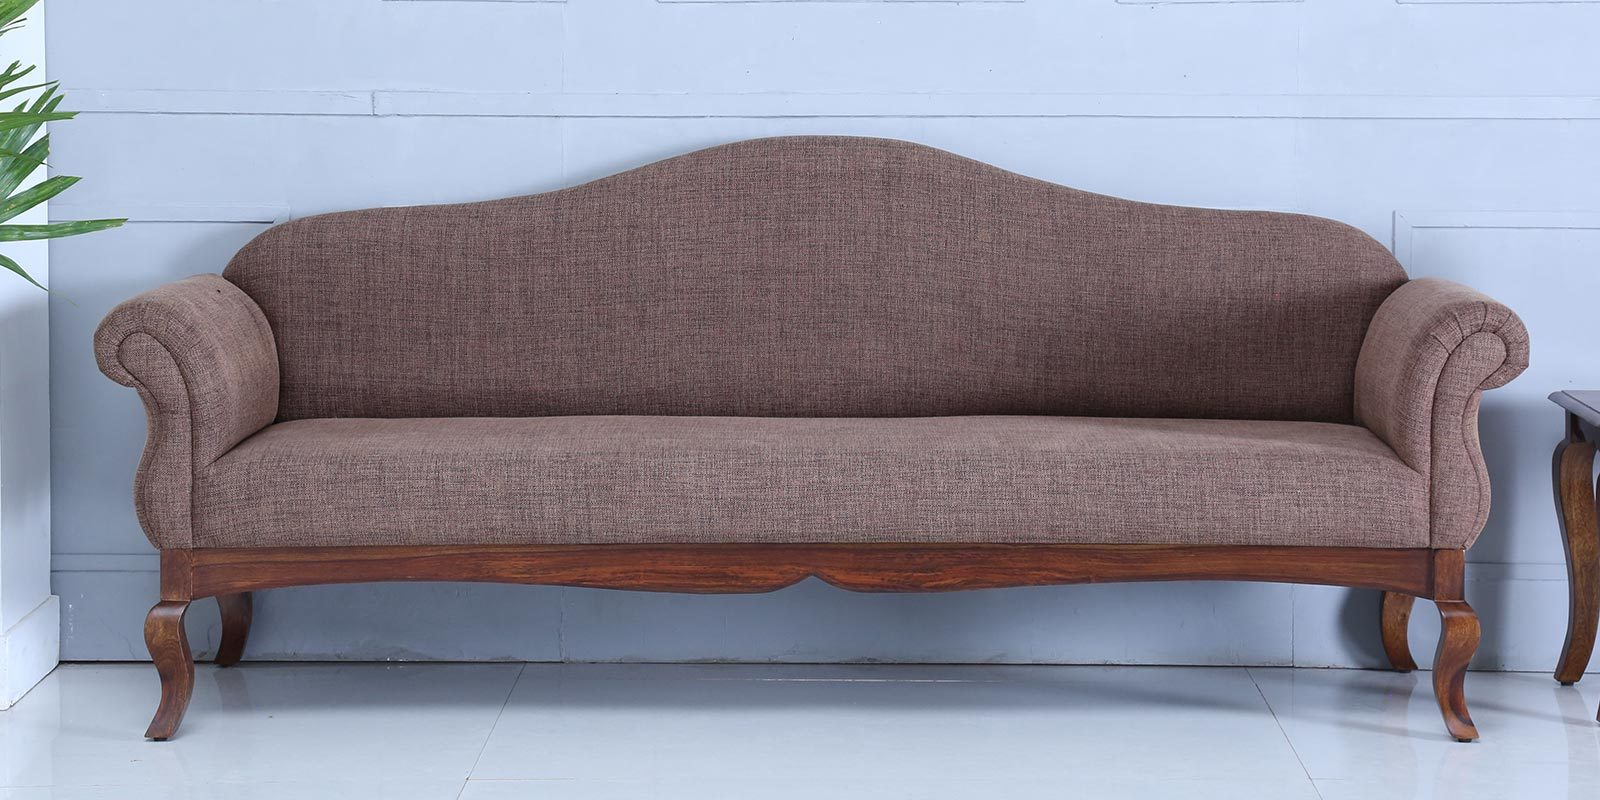Anne Three Seater Sofa in Provincial Teak Finish by Amberville: (81, 112, 1528, 753)
